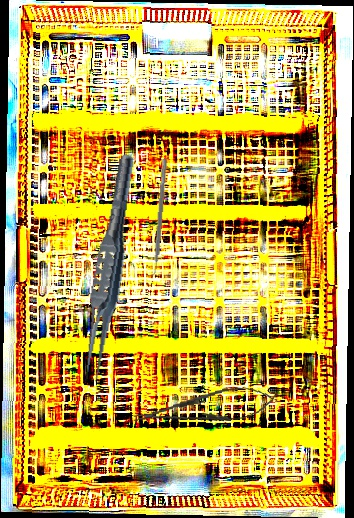Needle Holder: (130, 381, 280, 434)
Spatula Surgical: (148, 158, 168, 280)
Tissue Forceps: (76, 150, 141, 389)
